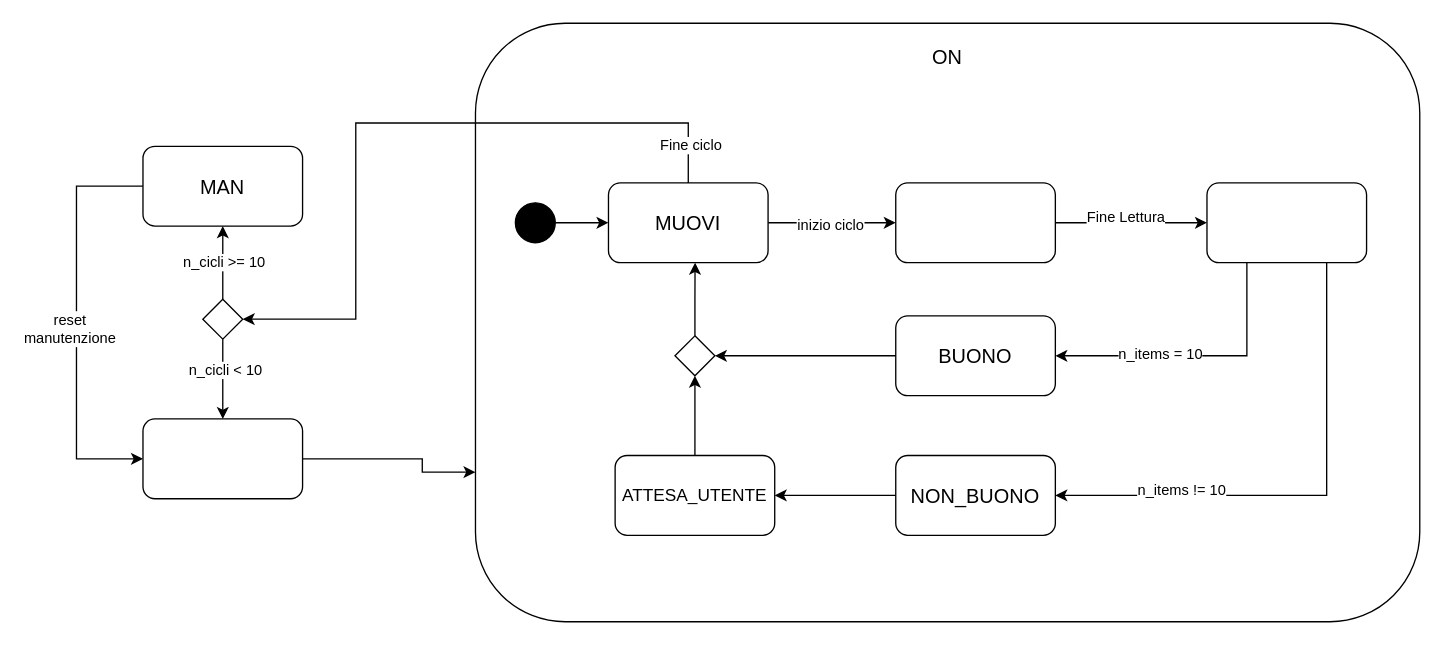
Some shapes in this 1443 by 645 pixel diagram are drawn without their labels. The shapes that lost their labels are listed below. From the top down, each one's centre as x and y in pixels, then its label:
At (x=974, y=222): "FOTOCAMERA".
At (x=1286, y=222): "RISULTATI".
At (x=222, y=458): "OFF".
